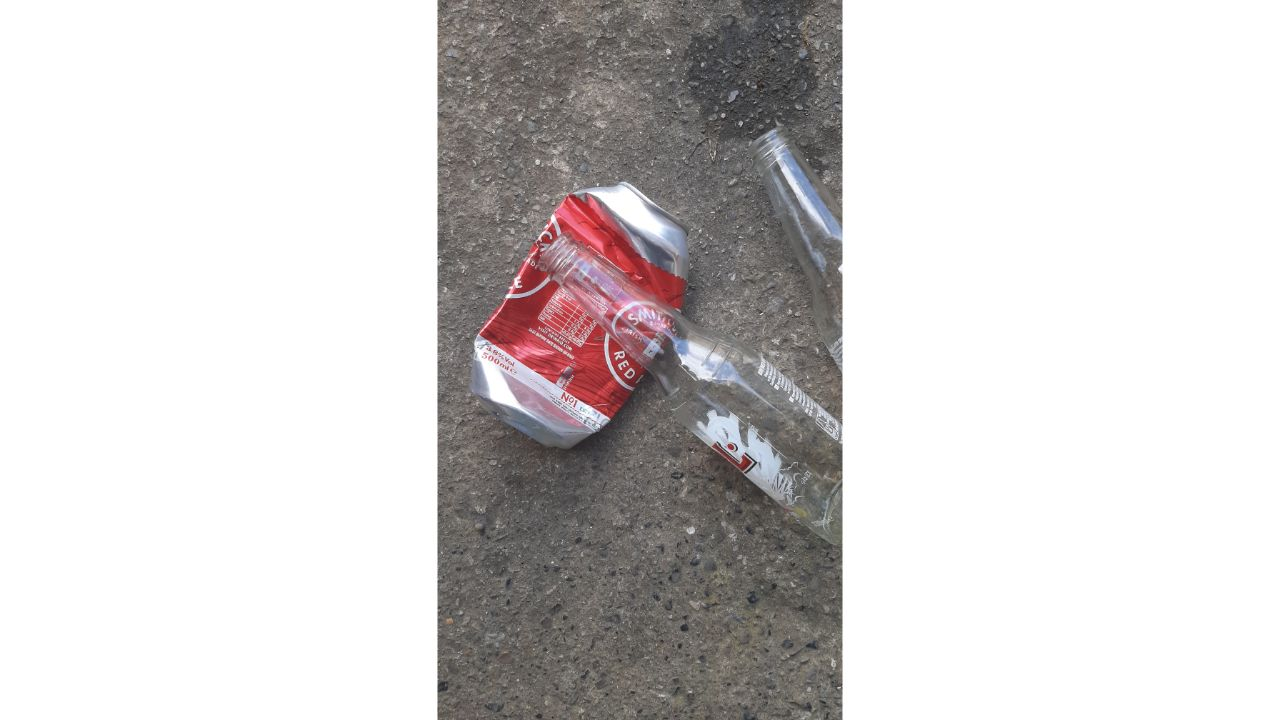Can: (457, 170, 701, 459)
